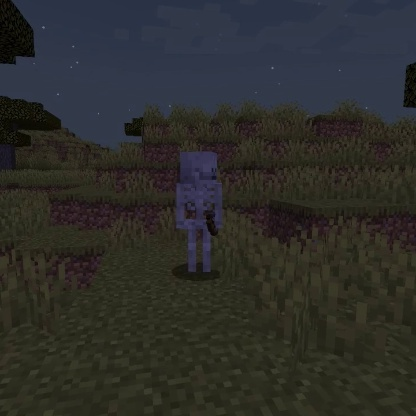skeleton: (171, 147, 229, 276)
